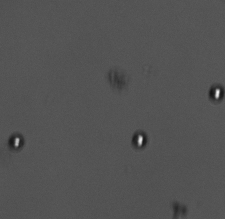Living Cell: (6, 132, 27, 152), (207, 83, 224, 105), (130, 130, 147, 150)
